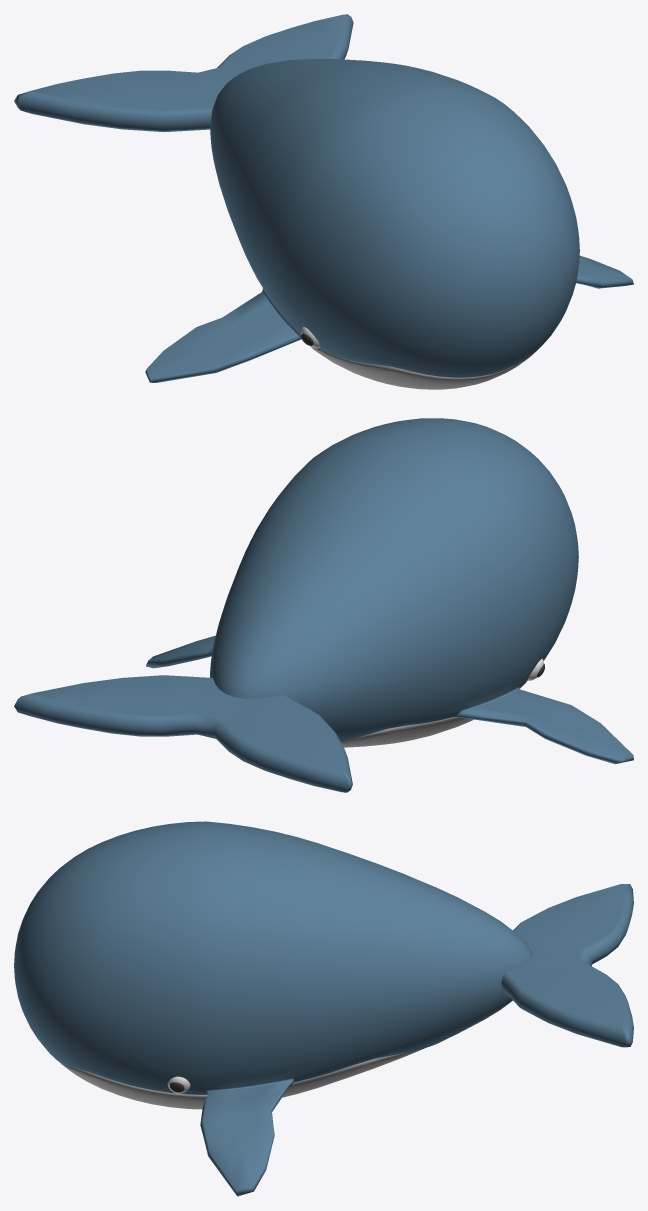
Rendered from whale.fbx.
3 renders of one model, top to bottom at view 1: azimuth 30°, elevation 25°; view 2: azimuth 150°, elevation 25°; view 3: azimuth 270°, elevation 25°, orthographic. The views are drawn at different scales.
Visible parts, largest first — view 1: WBody, WTail, WUnderbelly; view 2: WBody, WTail, WUnderbelly; view 3: WBody, WTail, WUnderbelly.
Part boxes in pixels (left/top/right/bottom): WBody: left=145, top=59, right=633, bottom=382; WTail: left=14, top=14, right=353, bottom=131; WUnderbelly: left=310, top=346, right=537, bottom=389; WBody: left=146, top=418, right=633, bottom=763; WTail: left=14, top=675, right=352, bottom=792; WUnderbelly: left=341, top=681, right=526, bottom=747; WBody: left=14, top=821, right=532, bottom=1196; WTail: left=501, top=884, right=633, bottom=1047; WUnderbelly: left=61, top=1048, right=424, bottom=1109.
Bounding box in the file's own units: 20.9 × 11.32 × 24.74.
